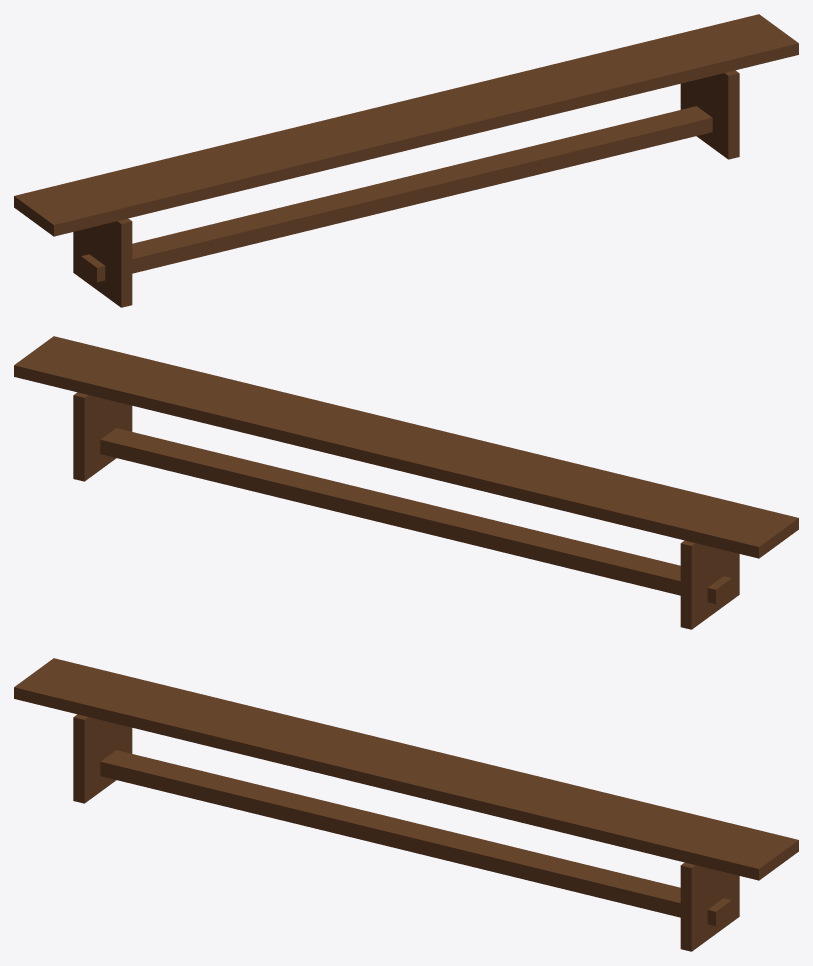
File: school.gym.bench.glb
3 renders of one model, top to bottom at view 1: azimuth 30°, elevation 25°; view 2: azimuth 150°, elevation 25°; view 3: azimuth 330°, elevation 25°, orthographic.
Parts seen in each view (by area): view 1: main__hardwood; view 2: main__hardwood; view 3: main__hardwood.
Boxes of the visible parts, <box> form: main__hardwood: <box>14,14,798,307</box>; main__hardwood: <box>14,336,798,629</box>; main__hardwood: <box>14,658,798,951</box>.
Bounding box in the file's own units: 2.7 × 0.33 × 0.3.
